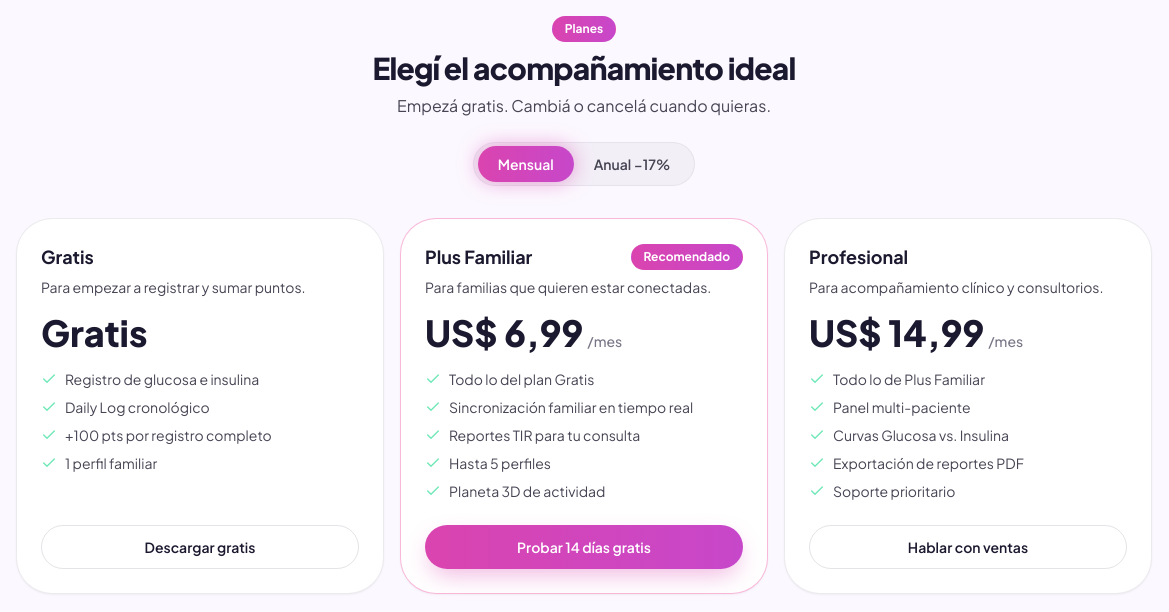
Test case: PricingSection › el toggle mensual/anual cambia el precio mostrado
Expected: the text "US$ 6,99/mes" is shown, [425, 310, 622, 355]
Click the tab "Anual −17%".
click(632, 164)  # box [574, 146, 690, 182]
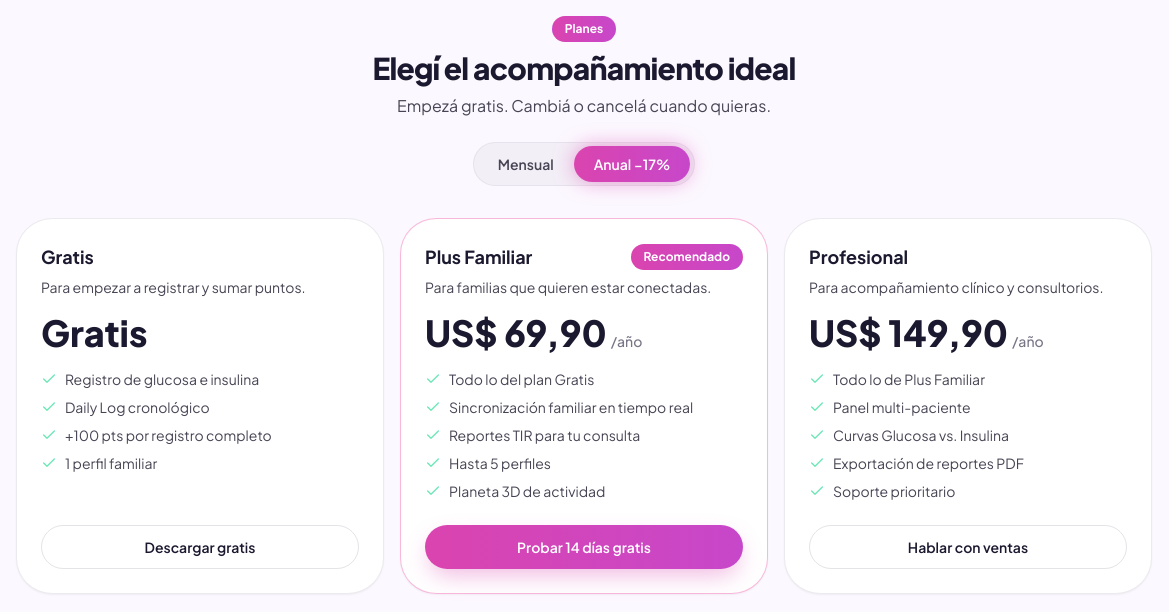
Result: the text "US$ 69,90/año" is shown at [425, 310, 642, 355]
